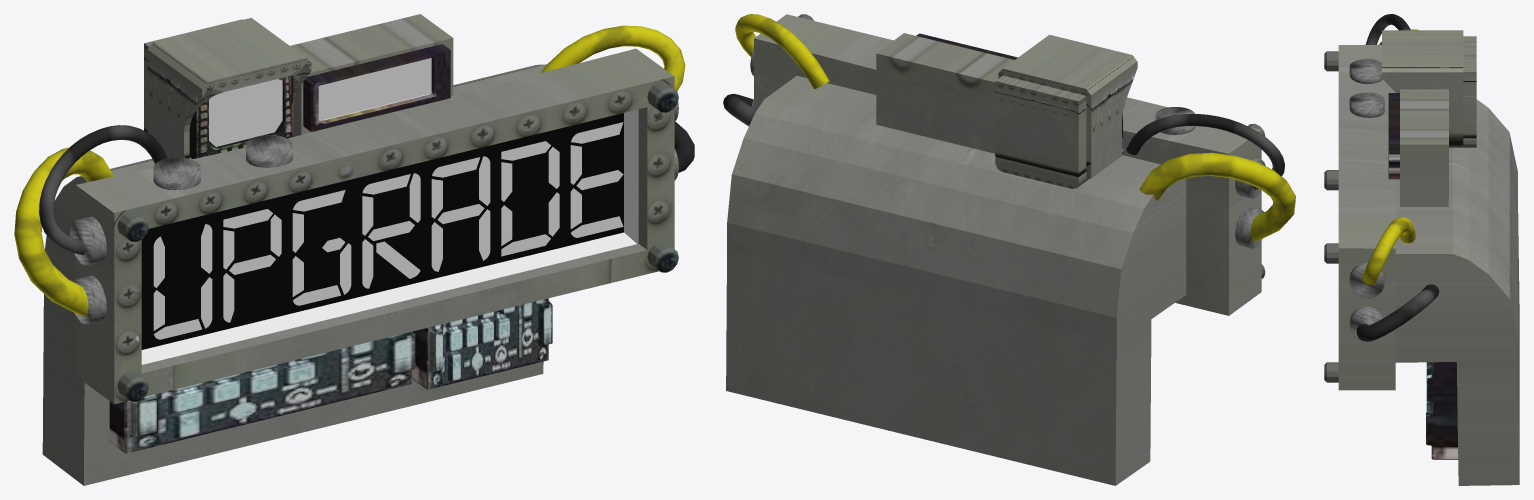
Rendered from Upgrade button.fbx.
The picture shows the model from 3 angles, left to right: view 1: azimuth 30°, elevation 25°; view 2: azimuth 150°, elevation 25°; view 3: azimuth 270°, elevation 25°; orthographic projection. The views are drawn at different scales.
Visible parts, largest first — view 1: Cube; view 2: Cube; view 3: Cube.
Part boxes in pixels (x1,y1,x2,y2): Cube: (14,14,694,485); Cube: (723,14,1295,485); Cube: (1324,14,1519,485).
Size of the model in its own units: 733 by 444 by 249.
